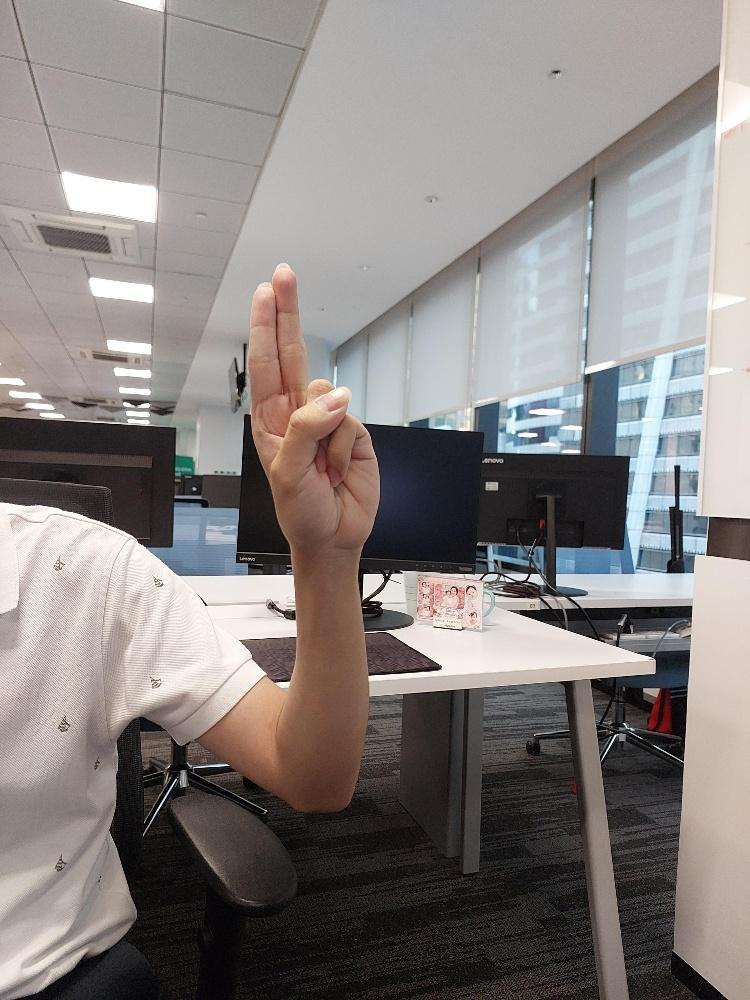u: (244, 256, 384, 561)
